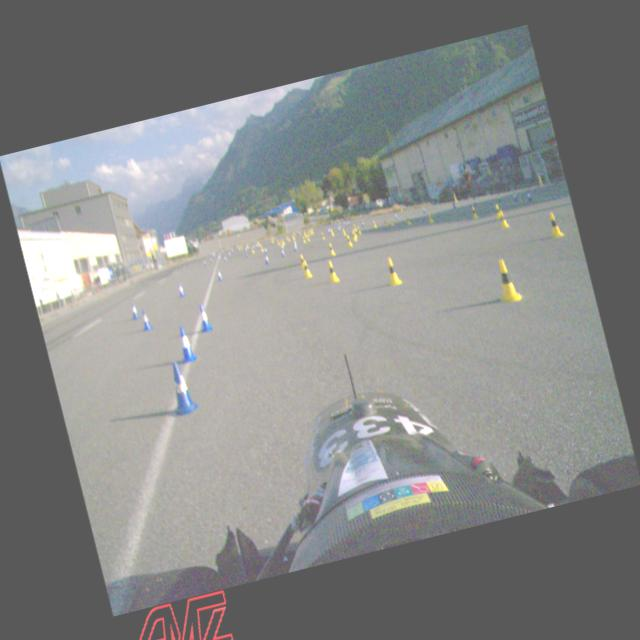blue_cone: (162, 358, 199, 417), (174, 323, 198, 364), (194, 302, 213, 333), (138, 306, 154, 331), (128, 300, 140, 320), (177, 282, 186, 296), (214, 268, 223, 282), (262, 253, 270, 265), (450, 200, 458, 210), (280, 246, 286, 258), (392, 210, 398, 220), (292, 242, 297, 252), (262, 246, 268, 254), (421, 206, 426, 213), (326, 228, 331, 235), (202, 259, 206, 266), (244, 251, 248, 258), (280, 242, 284, 249), (360, 220, 364, 227), (209, 257, 213, 263), (222, 255, 226, 261), (228, 251, 232, 257), (252, 244, 256, 250), (254, 242, 258, 248), (328, 226, 332, 232), (338, 220, 342, 226), (217, 253, 220, 260), (338, 224, 341, 230), (338, 226, 340, 232), (348, 221, 350, 225), (332, 222, 334, 226), (335, 221, 337, 225), (345, 222, 347, 226), (343, 220, 345, 224), (320, 224, 322, 228)
yellow_cone: (490, 256, 522, 306), (544, 210, 565, 239), (382, 256, 402, 286), (324, 259, 340, 283), (496, 209, 509, 230), (300, 258, 312, 280), (492, 202, 504, 220), (298, 253, 308, 270), (468, 204, 478, 220), (326, 242, 336, 256), (344, 234, 352, 247), (426, 212, 433, 224), (351, 230, 358, 242), (405, 215, 412, 225), (452, 192, 458, 203), (382, 217, 388, 228), (388, 216, 394, 226), (372, 218, 378, 228), (352, 222, 358, 232), (356, 226, 362, 236), (352, 228, 358, 238), (341, 227, 347, 236), (320, 232, 325, 240), (301, 235, 306, 243), (250, 246, 254, 254), (260, 244, 264, 252), (330, 228, 334, 236), (256, 240, 260, 247), (306, 234, 310, 241), (291, 233, 295, 240), (270, 238, 274, 244), (276, 239, 280, 245), (281, 238, 285, 244), (280, 240, 284, 246), (286, 236, 290, 242), (284, 234, 288, 240), (303, 232, 307, 238), (306, 231, 310, 237), (306, 228, 310, 234), (311, 228, 315, 234), (298, 230, 302, 235), (310, 229, 312, 235), (303, 229, 306, 233), (272, 236, 274, 241)
